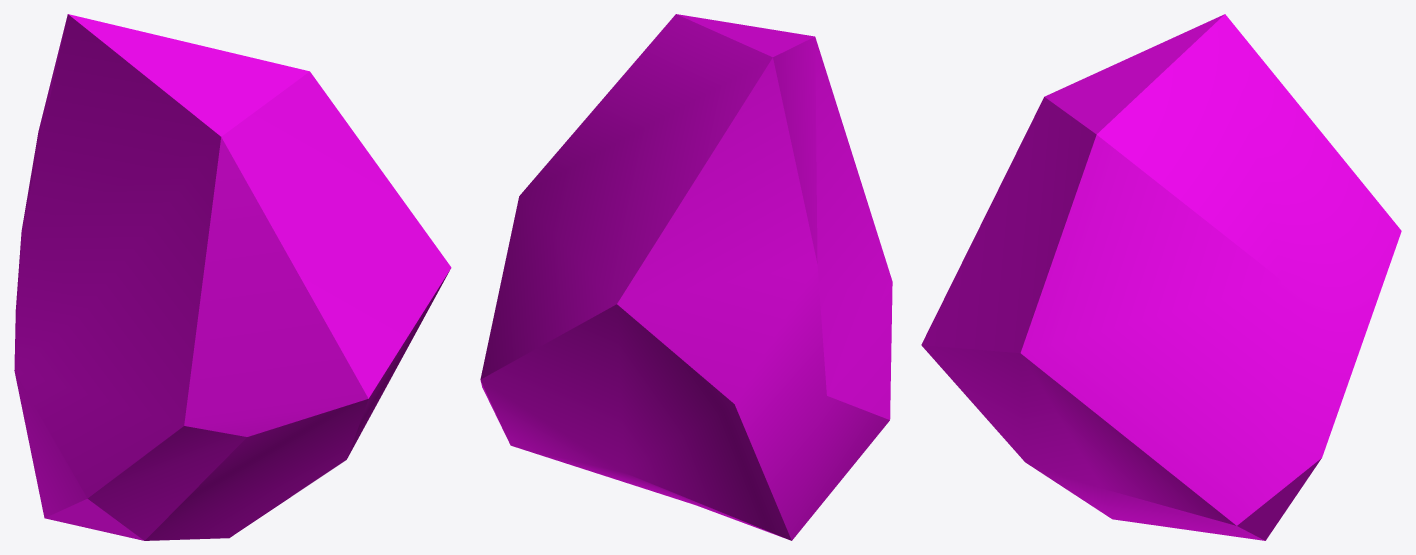
File: asteroid_2.fbx
3 views of the same model, side by side, from view 1: azimuth 30°, elevation 25°; view 2: azimuth 150°, elevation 25°; view 3: azimuth 270°, elevation 25° (orthographic). The views are drawn at different scales.
Parts seen in each view (by area): view 1: Asteroid_2; view 2: Asteroid_2; view 3: Asteroid_2.
Boxes of the visible parts, <box> form: Asteroid_2: <box>14,14,451,540</box>; Asteroid_2: <box>480,14,892,540</box>; Asteroid_2: <box>921,14,1401,540</box>.
Bounding box in the file's own units: 7.11 × 9.67 × 9.14.
